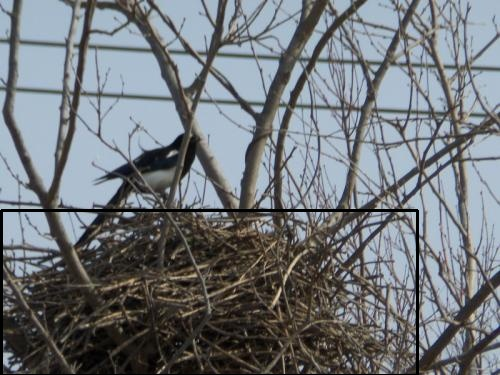bird-nest: (1, 206, 382, 374)
